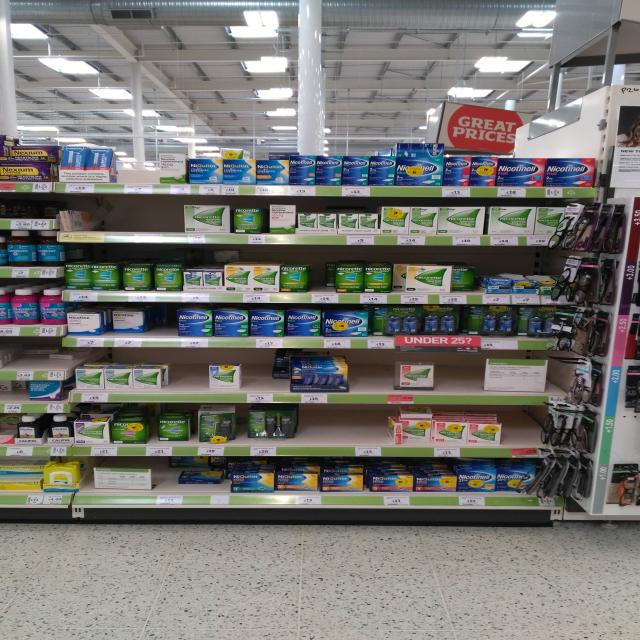void: (354, 352, 396, 406), (134, 195, 179, 242), (302, 406, 344, 456), (346, 405, 386, 456), (247, 348, 284, 403), (117, 142, 156, 193), (91, 194, 132, 242), (166, 348, 202, 401), (439, 353, 476, 404), (510, 406, 540, 458)
